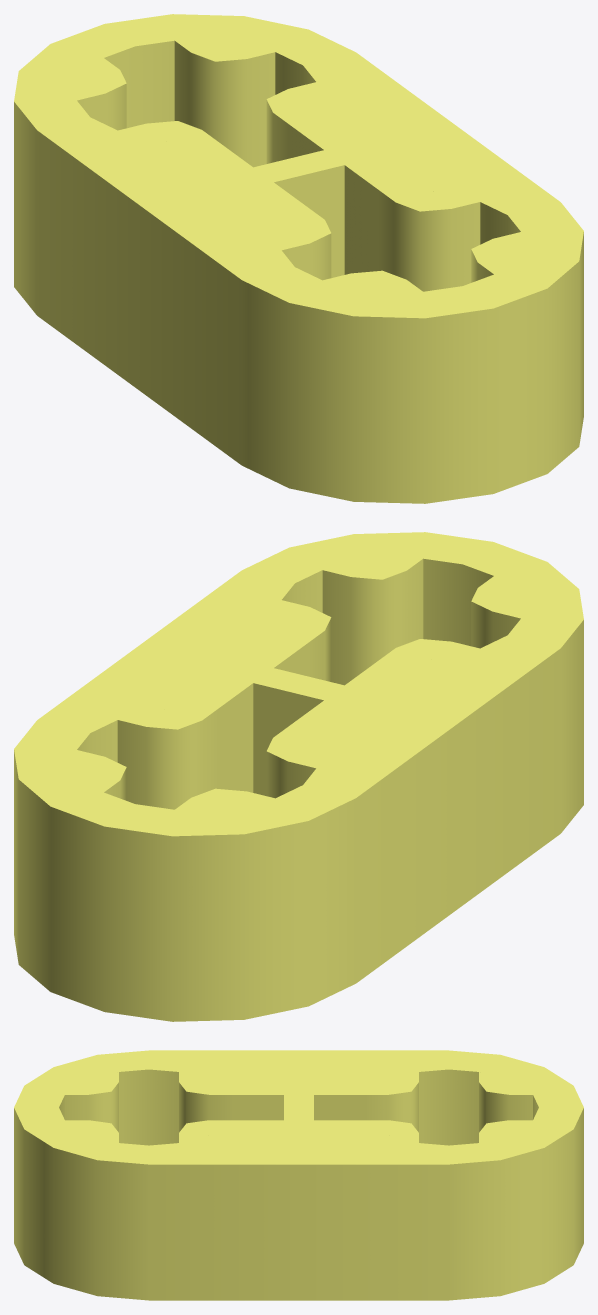
The picture shows the model from 3 angles, top to bottom: view 1: azimuth 30°, elevation 25°; view 2: azimuth 150°, elevation 25°; view 3: azimuth 270°, elevation 25°; orthographic projection. The views are drawn at different scales.
Parts seen in each view (by area): view 1: 41677.dat; view 2: 41677.dat; view 3: 41677.dat.
Boxes of the visible parts, bbox=[...] form: 41677.dat: bbox=[14, 14, 583, 503]; 41677.dat: bbox=[14, 532, 583, 1021]; 41677.dat: bbox=[14, 1050, 583, 1300].
Size of the model in its own units: 0.0072 by 0.004 by 0.0152.
